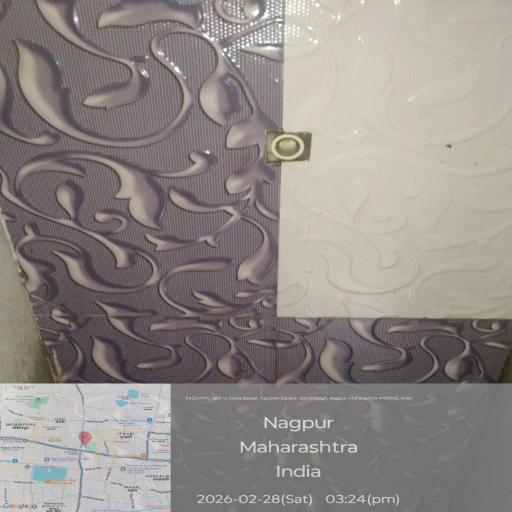partial_dirty_floor: (75, 81, 439, 459)
